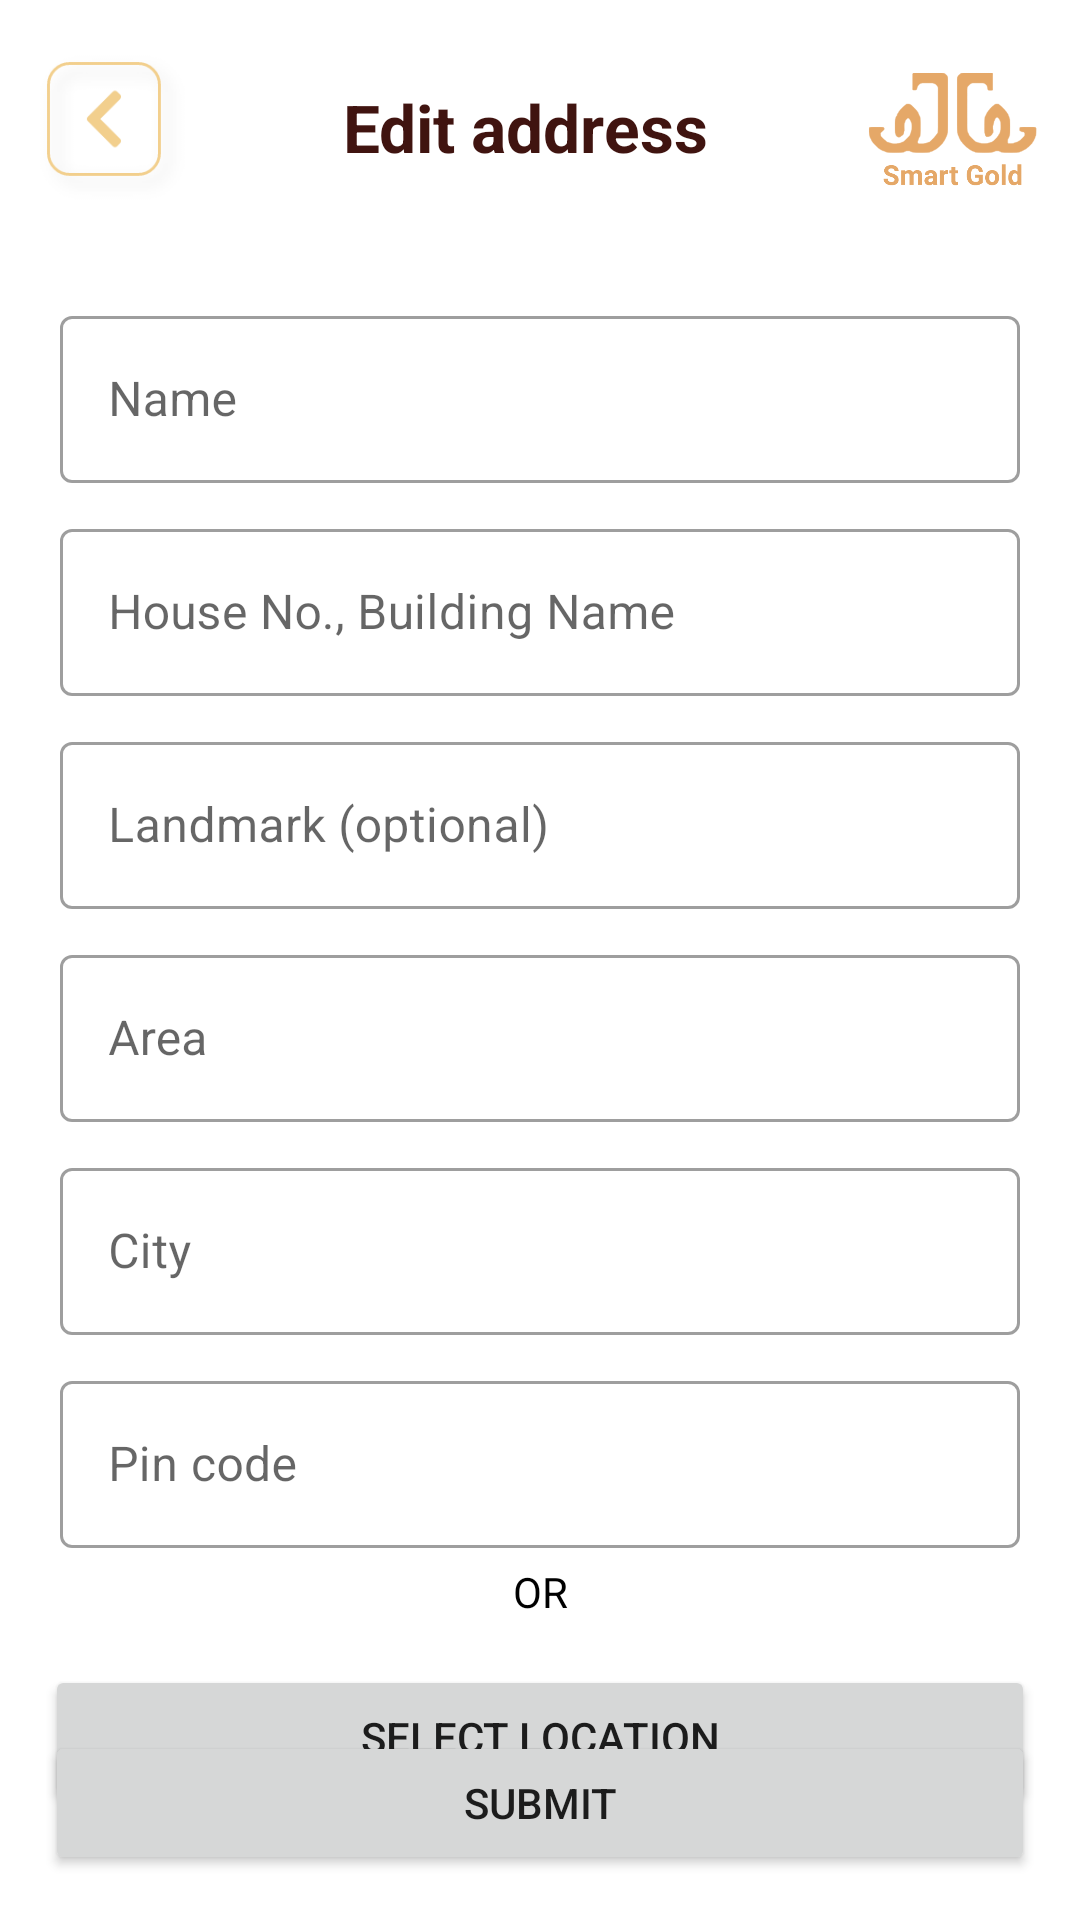

Screen size 1080px x 1920px. Icon name, then its center in pixels as (x=x, y=y):
backbtn: (x=104, y=119)
